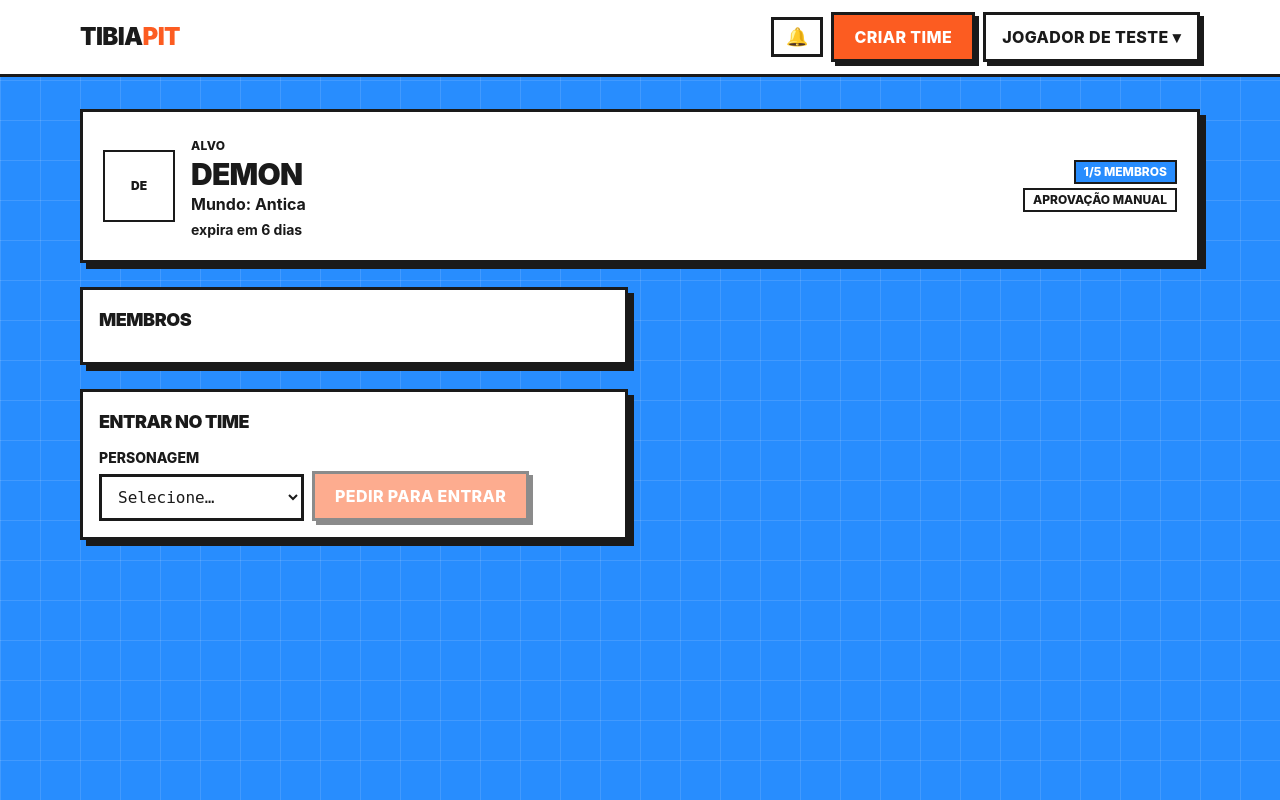
TeamDetailPage — pedir para entrar › recusa do backend aparece com a mensagem do backend
Expected: the heading "Demon" is shown, [191, 156, 302, 192]
Select "Druida de Antica" in the dropdown labelled "Personagem": (202, 498) [99, 474, 304, 521]
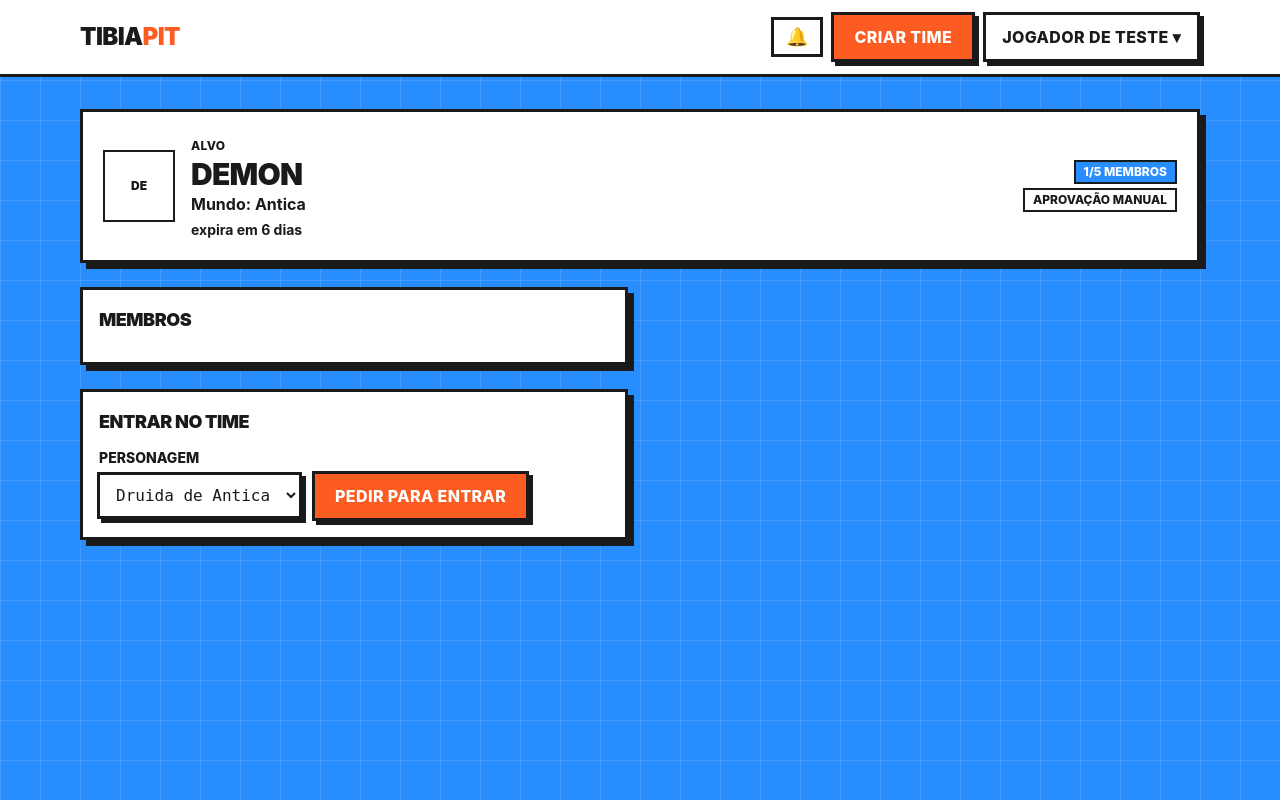
Click the button "Pedir para entrar": (421, 496) [312, 471, 529, 521]
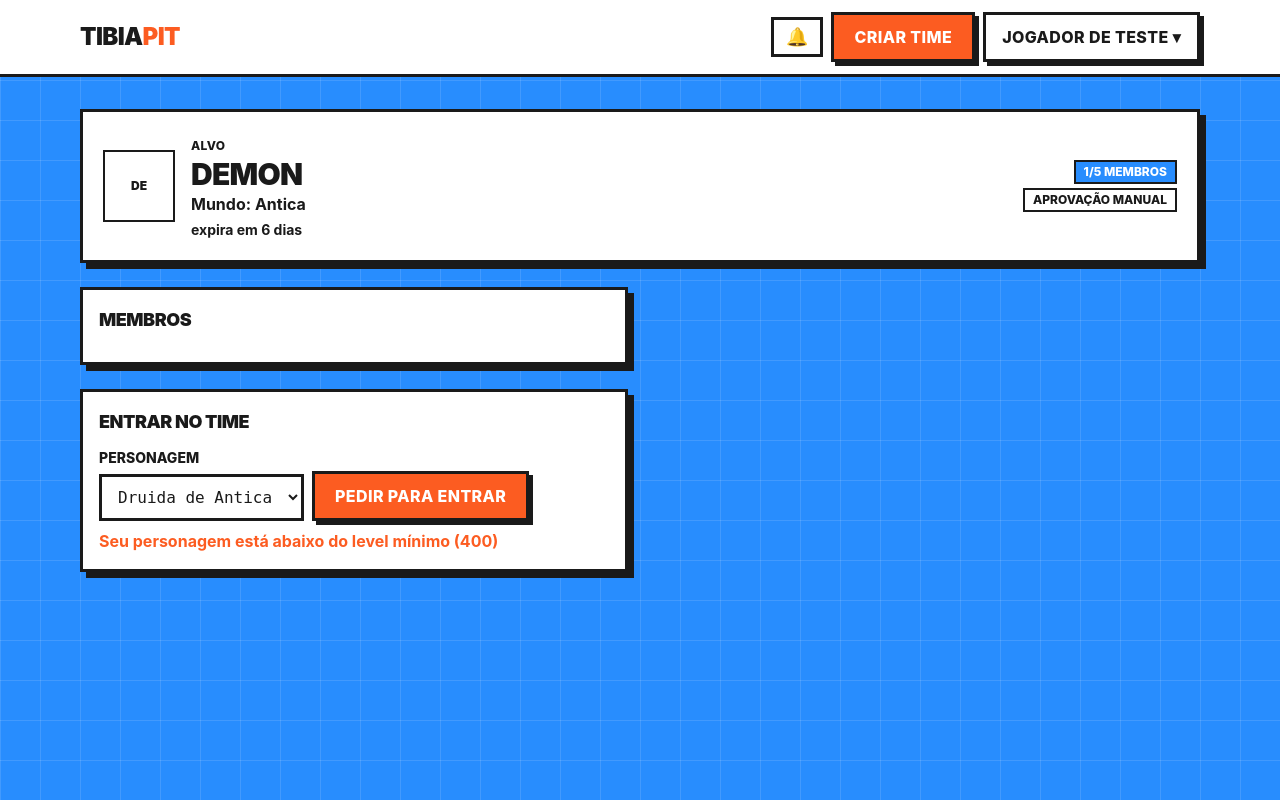
Expected: the text "Seu personagem está abaixo do level mínimo (400)" is shown, [99, 531, 498, 551]
